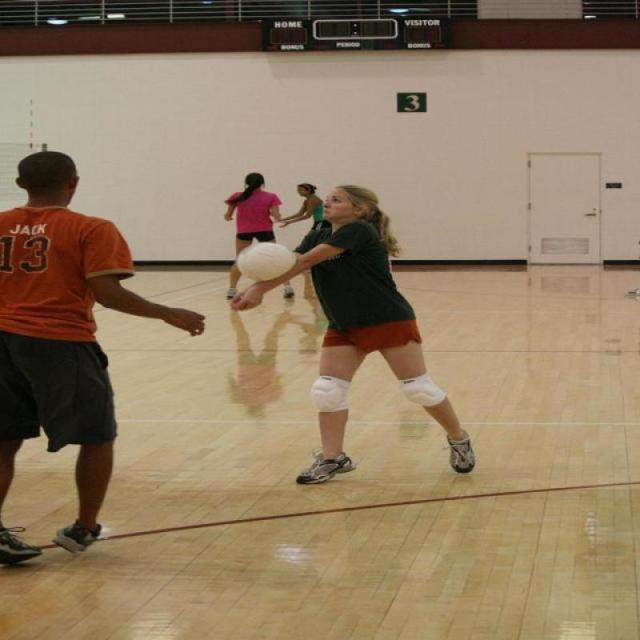volleyball: (234, 240, 296, 282)
